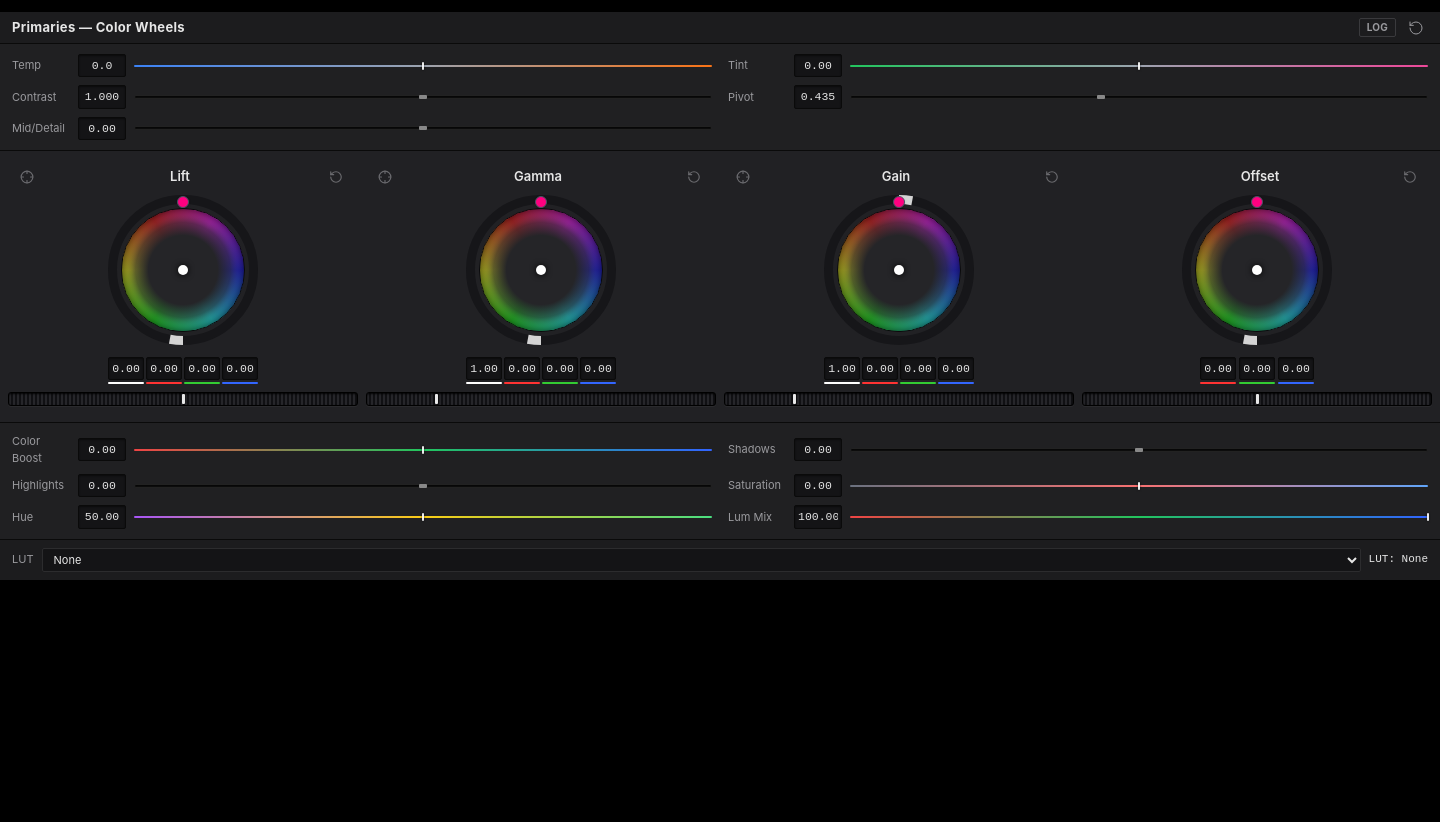
Scenario: WheelsPanel (Primaries — store-driven GradeParams) › derived YRGB readouts follow the store (offset ×1023; YRGB read-only)
Press End in the slider named "Offset luma", box [1082,392,1432,406]
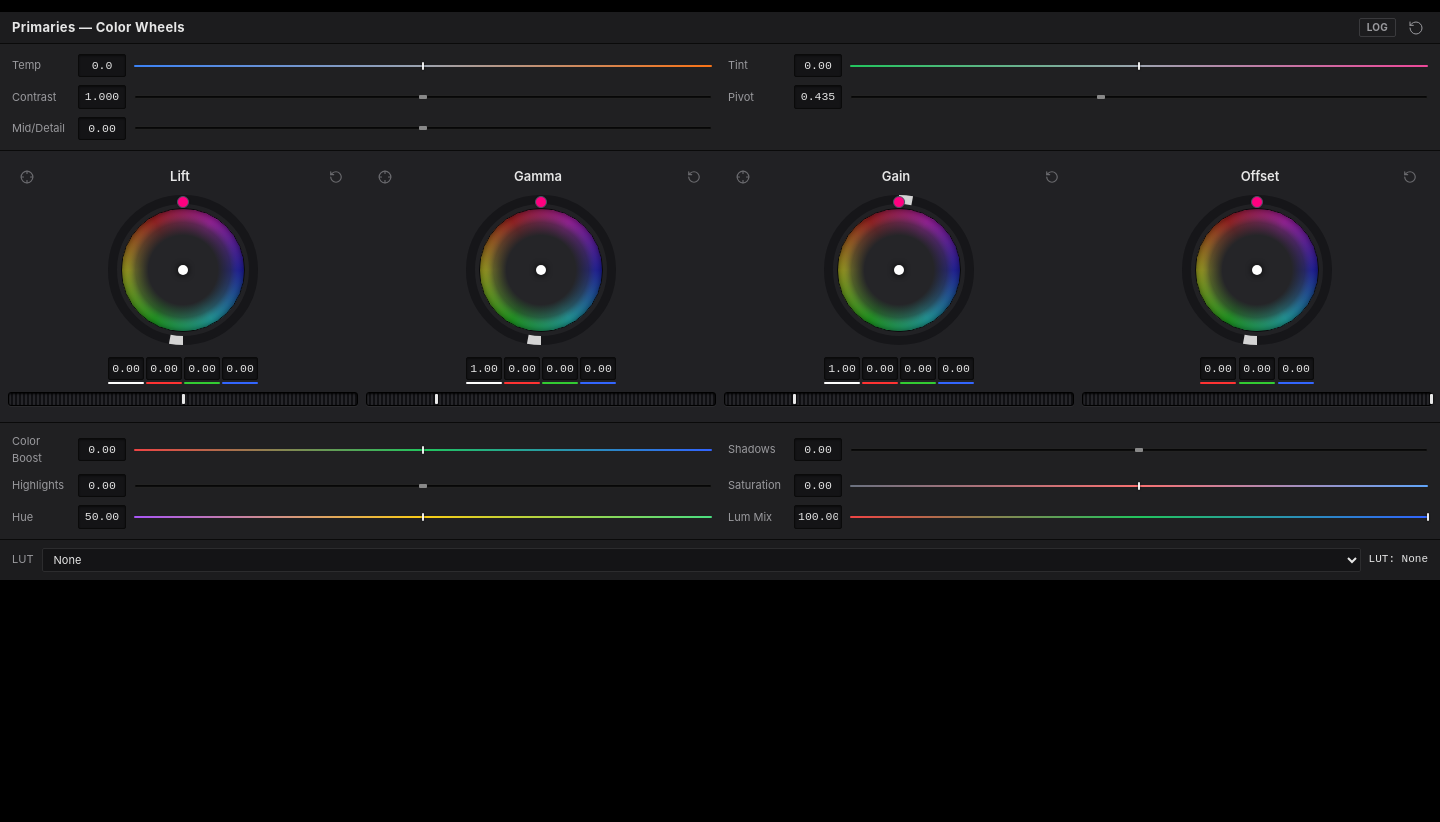
Expected: the picture named "Offset R" reads "0.00", [1204,362,1232,375]
Press the mouse on the picture with test id "shell-color-wheel-offset" at {"x": 1257, "y": 270}, box [1182,195,1332,345]
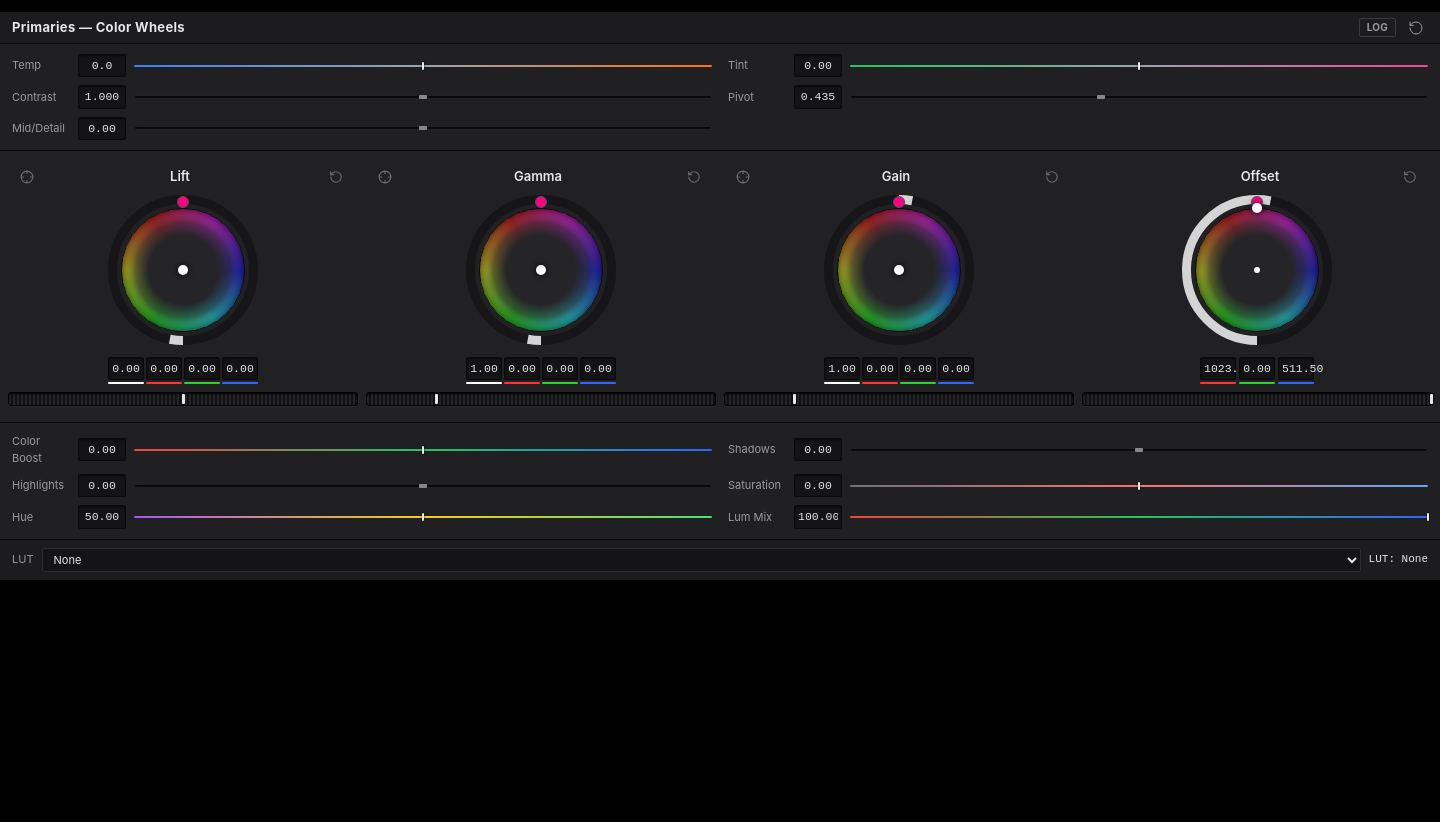
Result: the picture named "Offset R" reads "1023.00" at [1204,362,1252,375]
